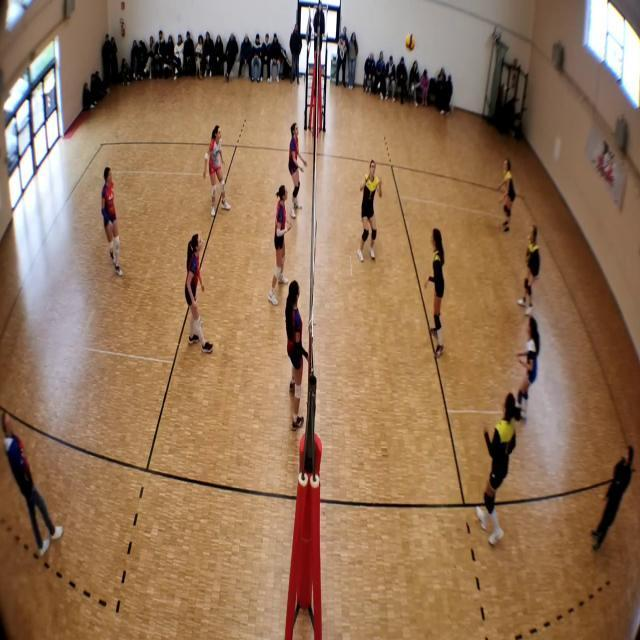volleyball: (404, 32, 416, 52)
